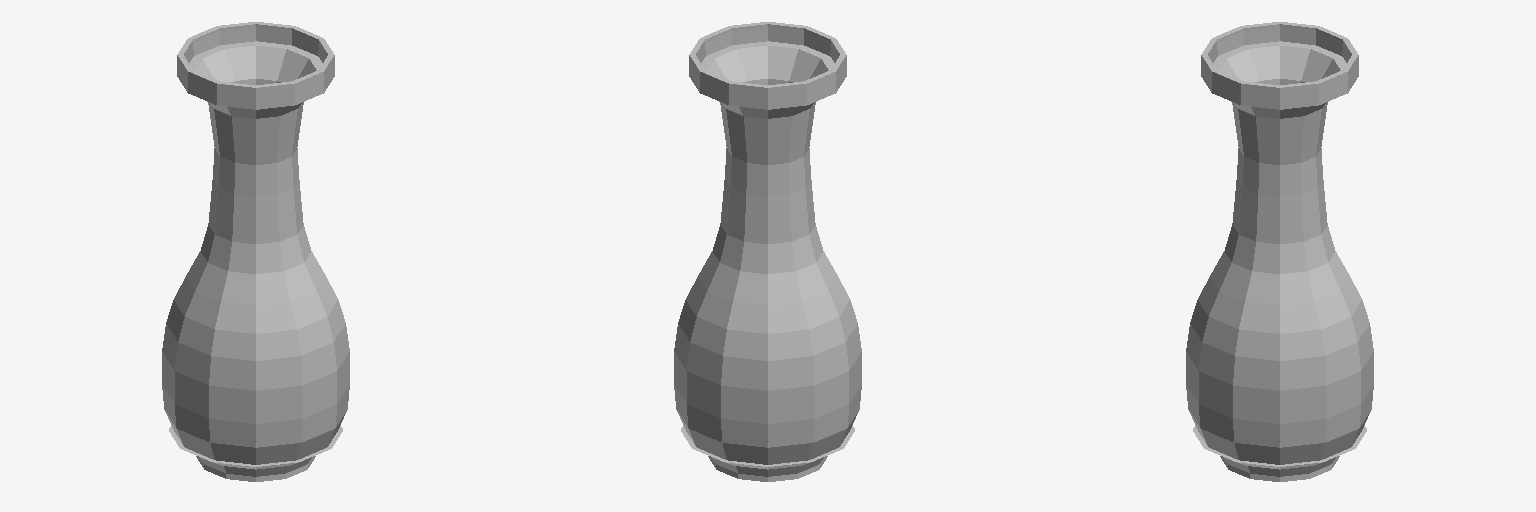
The model's file is bottle.obj.
3 renders of one model, left to right at view 1: azimuth 30°, elevation 25°; view 2: azimuth 150°, elevation 25°; view 3: azimuth 270°, elevation 25°, orthographic.
Parts seen in each view (by area): view 1: Bottle; view 2: Bottle; view 3: Bottle.
Boxes of the visible parts, <box> form: Bottle: <box>162,22,349,481</box>; Bottle: <box>674,22,861,481</box>; Bottle: <box>1186,22,1373,481</box>.
Size of the model in its own units: 1.97 by 4.66 by 1.97.